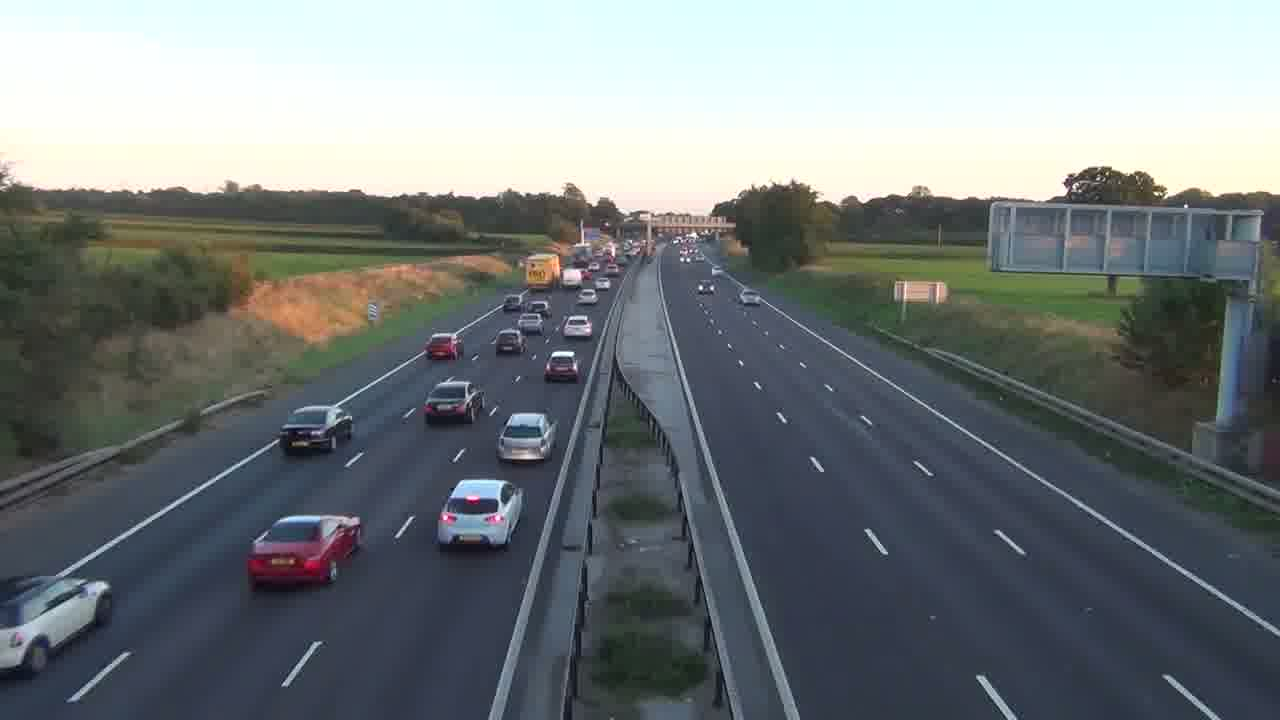car: (0, 574, 113, 679), (246, 512, 364, 589), (435, 478, 526, 550), (496, 411, 557, 463), (423, 378, 484, 424), (544, 349, 580, 383), (425, 333, 460, 361), (495, 328, 526, 355), (517, 314, 544, 336), (697, 280, 716, 294)
truck: (278, 403, 354, 455)
